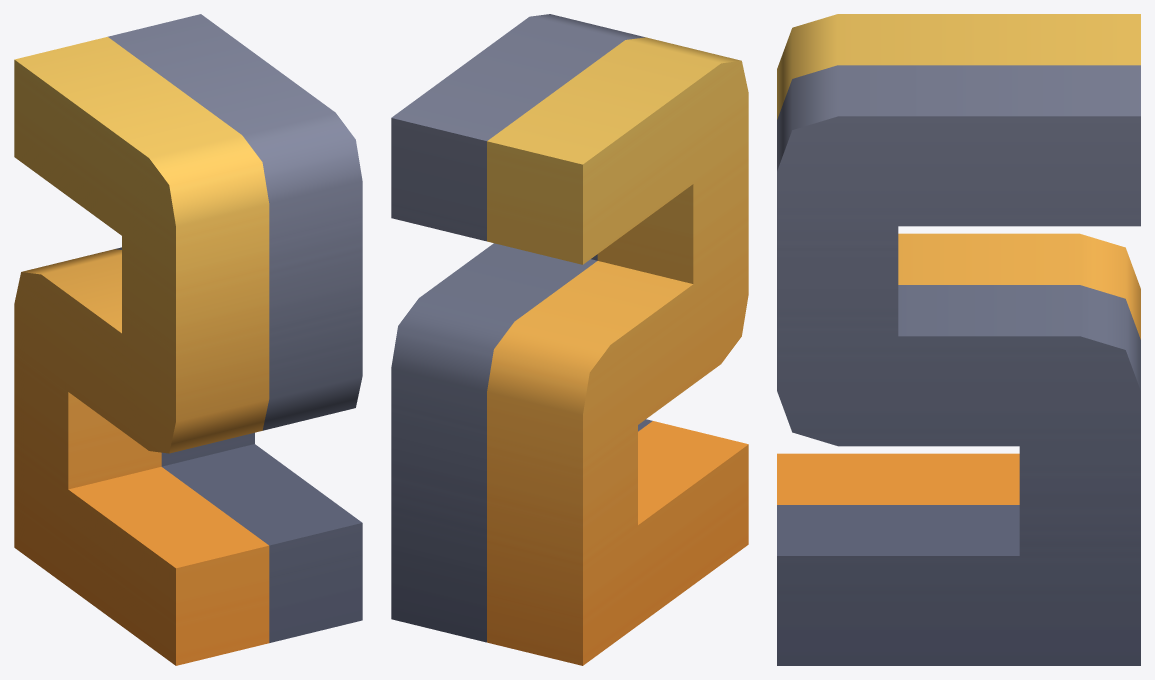
The model's file is number-double-2.fbx.
3 views of the same model, side by side, from view 1: azimuth 30°, elevation 25°; view 2: azimuth 150°, elevation 25°; view 3: azimuth 270°, elevation 25° (orthographic). The views are drawn at different scales.
Parts seen in each view (by area): view 1: number-double-2; view 2: number-double-2; view 3: number-double-2.
Part boxes in pixels (left/top/right/bottom): number-double-2: left=14, top=14, right=362, bottom=665; number-double-2: left=391, top=14, right=748, bottom=665; number-double-2: left=777, top=14, right=1140, bottom=665.
Bounding box in the file's own units: 20 × 50 × 30.
